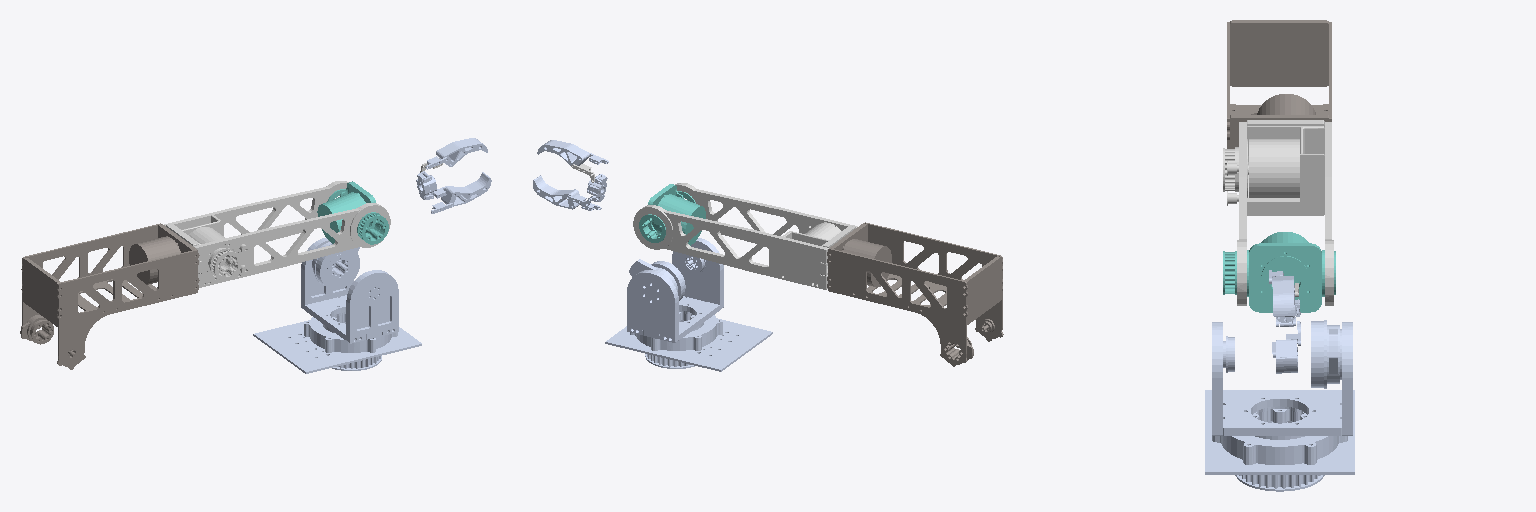
The robot description file, URDF, robot "test_robot":
<?xml version="1.0" encoding="utf-8"?>
<robot name="test_robot">
  <link name="base_link">
    <inertial>
      <origin xyz="-0.00811419632857951 -1.33296151894058E-14 0.0388240036755806" rpy="0 0 0" />
      <mass value="0.364486220084729" />
      <inertia ixx="0.000533408638192617" ixy="8.97278369764983E-18" ixz="-1.11599176793764E-19" iyy="0.000678388144206065" iyz="-1.80731678139074E-18" izz="0.00119780069410084" />
    </inertial>
    <visual>
      <origin xyz="0 0 0" rpy="0 0 0" />
      <geometry>
        <mesh filename="package://test_robot/meshes/base_link.STL" />
      </geometry>
      <material name="arm_steel_blue">
        <color rgba="0.866666666666667 0.909803921568627 1 1" />
      </material>
    </visual>
    <collision>
      <origin xyz="0 0 0" rpy="0 0 0" />
      <geometry>
        <mesh filename="package://test_robot/meshes/collision/base_link.STL" />
      </geometry>
    </collision>
  </link>
  <link name="Link1">
    <inertial>
      <origin xyz="2.76611376026636E-07 0.00318515760859579 0.0437762383710039" rpy="0 0 0" />
      <mass value="0.621571816188786" />
      <inertia ixx="0.000503475045342031" ixy="-7.95356949163841E-10" ixz="-2.83799808003053E-09" iyy="0.000514707485907419" iyz="1.43408631953426E-06" izz="0.000593222979580128" />
    </inertial>
    <visual>
      <origin xyz="0 0 0" rpy="0 0 0" />
      <geometry>
        <mesh filename="package://test_robot/meshes/Link1.STL" />
      </geometry>
      <material name="arm_steel_blue">
        <color rgba="0.866666666666667 0.909803921568627 1 1" />
      </material>
    </visual>
    <collision>
      <origin xyz="0 0 0" rpy="0 0 0" />
      <geometry>
        <mesh filename="package://test_robot/meshes/collision/Link1.STL" />
      </geometry>
    </collision>
  </link>
  <joint name="joint1" type="revolute">
    <origin xyz="0 0 0.0305" rpy="0 0 0" />
    <parent link="base_link" />
    <child link="Link1" />
    <axis xyz="0 0 1" />
    <limit lower="-2.09" upper="2.09" effort="12" velocity="3.1416" />
    <dynamics damping="0.01" friction="0.0" />
  </joint>
  <link name="Link2">
    <inertial>
      <origin xyz="-0.199741277878979 -0.00540759219989384 -0.0246254064934724" rpy="0 0 0" />
      <mass value="1.35061913683019" />
      <inertia ixx="0.000960498489177091" ixy="-0.000486543194606146" ixz="-1.59579543128019E-06" iyy="0.0172050616052703" iyz="3.73239912729863E-09" izz="0.0179305739742521" />
    </inertial>
    <visual>
      <origin xyz="0 0 0" rpy="0 0 0" />
      <geometry>
        <mesh filename="package://test_robot/meshes/Link2.STL" />
      </geometry>
      <material name="arm_grey">
        <color rgba="0.894117647058823 0.894117647058823 0.894117647058823 1" />
      </material>
    </visual>
    <collision>
      <origin xyz="0 0 0" rpy="0 0 0" />
      <geometry>
        <mesh filename="package://test_robot/meshes/collision/Link2.STL" />
      </geometry>
    </collision>
  </link>
  <joint name="joint2" type="revolute">
    <origin xyz="0 0.027 0.0905" rpy="-1.5708 0 0" />
    <parent link="Link1" />
    <child link="Link2" />
    <axis xyz="0 0 1" />
    <limit lower="0" upper="1.89" effort="30" velocity="3.1416" />
    <dynamics damping="0.01" friction="0.0" />
  </joint>
  <link name="Link3">
    <inertial>
      <origin xyz="0.105904980655769 0.066542728256459 0.025899799770228" rpy="0 0 0" />
      <mass value="0.457103020650054" />
      <inertia ixx="0.000348241046812466" ixy="-0.000159956092458612" ixz="-2.72384252819298E-09" iyy="0.00121834819499818" iyz="-9.10034327369892E-09" izz="0.00132474916053214" />
    </inertial>
    <visual>
      <origin xyz="0 0 0" rpy="0 0 0" />
      <geometry>
        <mesh filename="package://test_robot/meshes/Link3.STL" />
      </geometry>
      <material name="arm_warm_grey">
        <color rgba="0.643137254901961 0.615686274509804 0.6 1" />
      </material>
    </visual>
    <collision>
      <origin xyz="0 0 0" rpy="0 0 0" />
      <geometry>
        <mesh filename="package://test_robot/meshes/collision/Link3.STL" />
      </geometry>
    </collision>
  </link>
  <joint name="joint3" type="revolute">
    <origin xyz="-0.459 -0.0125 0" rpy="3.1416 0 0" />
    <parent link="Link2" />
    <child link="Link3" />
    <axis xyz="0 0 1" />
    <limit lower="0" upper="3.0543" effort="30" velocity="3.1416" />
    <dynamics damping="0.01" friction="0.0" />
  </joint>
  <link name="Link4">
    <inertial>
      <origin xyz="-0.00203126113837154 0.00768648222538861 0.0837453569559625" rpy="0 0 0" />
      <mass value="0.429935395297889" />
      <inertia ixx="0.00112490417910146" ixy="1.66234255336337E-08" ixz="3.36832639994425E-06" iyy="0.00117882024397946" iyz="9.36256823332818E-08" izz="0.000198732892718145" />
    </inertial>
    <visual>
      <origin xyz="0 0 0" rpy="0 0 0" />
      <geometry>
        <mesh filename="package://test_robot/meshes/Link4.STL" />
      </geometry>
      <material name="arm_grey">
        <color rgba="0.894117647058823 0.894117647058823 0.894117647058823 1" />
      </material>
    </visual>
    <collision>
      <origin xyz="0 0 0" rpy="0 0 0" />
      <geometry>
        <mesh filename="package://test_robot/meshes/collision/Link4.STL" />
      </geometry>
    </collision>
  </link>
  <joint name="joint4" type="revolute">
    <origin xyz="0.186 0.0765 0.020825" rpy="1.5708 0 1.5708" />
    <parent link="Link3" />
    <child link="Link4" />
    <axis xyz="0 0 -1" />
    <limit lower="-2.09" upper="2.09" effort="12" velocity="3.1416" />
    <dynamics damping="0.01" friction="0.0" />
  </joint>
  <link name="Link5">
    <inertial>
      <origin xyz="-0.00153397999082677 0.0107830237483538 -0.0407731843529827" rpy="0 0 0" />
      <mass value="0.162461257063324" />
      <inertia ixx="5.50876343742117E-05" ixy="-4.38999977719251E-07" ixz="7.62267112020251E-11" iyy="5.81107100157246E-05" iyz="-5.35891825689256E-10" izz="5.92603292452636E-05" />
    </inertial>
    <visual>
      <origin xyz="0 0 0" rpy="0 0 0" />
      <geometry>
        <mesh filename="package://test_robot/meshes/Link5.STL" />
      </geometry>
      <material name="arm_teal">
        <color rgba="0.533333333333333 0.850980392156863 0.823529411764706 1" />
      </material>
    </visual>
    <collision>
      <origin xyz="0 0 0" rpy="0 0 0" />
      <geometry>
        <mesh filename="package://test_robot/meshes/collision/Link5.STL" />
      </geometry>
    </collision>
  </link>
  <joint name="joint5" type="revolute">
    <origin xyz="-0.002 0.04625 0.2803" rpy="-1.5708 0 0" />
    <parent link="Link4" />
    <child link="Link5" />
    <axis xyz="0 0 1" />
    <limit lower="-2.09" upper="2.09" effort="12" velocity="3.1416" />
    <dynamics damping="0.01" friction="0.0" />
  </joint>
  <link name="Link6">
    <inertial>
      <origin xyz="0.000357322178219259 0.00712638722532827 0.0501847245844815" rpy="0 0 0" />
      <mass value="0.245702073285666" />
      <inertia ixx="5.96908229166746E-05" ixy="1.0756643849396E-07" ixz="-2.85776397006035E-08" iyy="5.78059821269623E-05" iyz="4.18006590233553E-06" izz="8.68639477686763E-05" />
    </inertial>
    <visual>
      <origin xyz="0 0 0" rpy="0 0 0" />
      <geometry>
        <mesh filename="package://test_robot/meshes/Link6.STL" />
      </geometry>
      <material name="arm_steel_blue">
        <color rgba="0.866666666666667 0.909803921568627 1 1" />
      </material>
    </visual>
    <collision>
      <origin xyz="0 0 0" rpy="0 0 0" />
      <geometry>
        <mesh filename="package://test_robot/meshes/collision/Link6.STL" />
      </geometry>
    </collision>
  </link>
  <joint name="joint6" type="revolute">
    <origin xyz="0.0014083 -0.0099003 -0.045" rpy="1.5708 1.5708 0" />
    <parent link="Link5" />
    <child link="Link6" />
    <axis xyz="0 -0.14083 -0.99003" />
    <limit lower="-2.09" upper="2.09" effort="12" velocity="3.1416" />
    <dynamics damping="0.01" friction="0.0" />
  </joint>
  <!-- Planning reference frame at the center of the gripper. This fixed
       frame keeps the gripper's actuated joint out of the arm group. -->
  <link name="gripper_center_link" />
  <joint name="gripper_center_joint" type="fixed">
    <origin xyz="0.0130908596034552 -0.001372379325729 0.0952461475724257" rpy="0 0 1.5707963267949" />
    <parent link="Link6" />
    <child link="gripper_center_link" />
  </joint>
  <link name="Link8">
    <inertial>
      <origin xyz="0.0162159471074232 0.0122609328786536 0.00855710252703645" rpy="0 0 0" />
      <mass value="0.0218690867067144" />
      <inertia ixx="7.05738702902163E-07" ixy="-3.26253738910246E-08" ixz="1.14035487236755E-07" iyy="1.39892917276227E-06" iyz="4.64026174987268E-09" izz="1.49110127899E-06" />
    </inertial>
    <visual>
      <origin xyz="0 0 0" rpy="0 0 0" />
      <geometry>
        <mesh filename="package://test_robot/meshes/Link8.STL" />
      </geometry>
      <material name="arm_steel_blue">
        <color rgba="0.866666666666667 0.909803921568627 1 1" />
      </material>
    </visual>
    <collision>
      <origin xyz="0 0 0" rpy="0 0 0" />
      <geometry>
        <mesh filename="package://test_robot/meshes/collision/Link8.STL" />
      </geometry>
    </collision>
  </link>
  <joint name="joint8" type="prismatic">
    <origin xyz="0 0 0" rpy="0 0 0" />
    <parent link="gripper_center_link" />
    <child link="Link8" />
    <axis xyz="0.070811407502 -0.003421740214 0.997483852632" />
    <limit lower="-0.000523" upper="0.009530" effort="300" velocity="0.02" />
    <dynamics damping="0.05" friction="0.0" />
  </joint>
  <link name="Link9">
    <inertial>
      <origin xyz="0.00107163406109 -0.00519200158168 0.00802387032304" rpy="0 0 0" />
      <mass value="0.00119867092669183" />
      <inertia ixx="1.47448162955934E-08" ixy="1.91215994682163E-09" ixz="1.10228663937921E-10" iyy="8.4740978672931E-09" iyz="6.07188191035794E-11" izz="1.26201915354353E-08" />
    </inertial>
    <visual>
      <origin xyz="3.85150578816e-06 -3.06245142526e-05 -2.710793532e-08" rpy="0 0 0" />
      <geometry>
        <mesh filename="package://test_robot/meshes/Link9.STL" />
      </geometry>
      <material name="arm_steel_blue">
        <color rgba="0.866666666666667 0.909803921568627 1 1" />
      </material>
    </visual>
    <collision>
      <origin xyz="3.85150578816e-06 -3.06245142526e-05 -2.710793532e-08" rpy="0 0 0" />
      <geometry>
        <mesh filename="package://test_robot/meshes/collision/Link9.STL" />
      </geometry>
    </collision>
  </link>
  <joint name="joint9" type="revolute">
    <origin xyz="0.0288226018955 0.00571990155025 -0.000226295176334" rpy="-1.57079632679 0 0" />
    <parent link="Link8" />
    <child link="Link9" />
    <axis xyz="0.0464280010059 0.00672200015912 -0.998899021642" />
    <limit lower="-2.0" upper="2.0" effort="5" velocity="6.2832" />
    <dynamics damping="0.05" friction="0.0" />
    <mimic joint="joint8" multiplier="-17.5101" offset="0" />
  </joint>
  <link name="Link10">
    <inertial>
      <origin xyz="0.0151648614177 0.0100233750237 0.012378638739" rpy="0 0 0" />
      <mass value="0.00650857521556848" />
      <inertia ixx="1.75361043049391E-07" ixy="-1.24110145651294E-07" ixz="-3.66845570574193E-09" iyy="5.26082752348036E-07" iyz="2.65566550041051E-09" izz="4.86011124032275E-07" />
    </inertial>
    <visual>
      <origin xyz="0.0016010744212 0.00884443387304 0.000400192759806" rpy="0 0 0" />
      <geometry>
        <mesh filename="package://test_robot/meshes/Link10.STL" />
      </geometry>
      <material name="arm_grey">
        <color rgba="0.894117647058823 0.894117647058823 0.894117647058823 1" />
      </material>
    </visual>
    <collision>
      <origin xyz="0.0016010744212 0.00884443387304 0.000400192759806" rpy="0 0 0" />
      <geometry>
        <mesh filename="package://test_robot/meshes/collision/Link10.STL" />
      </geometry>
    </collision>
  </link>
  <joint name="joint10" type="revolute">
    <origin xyz="0.00235257221789 -0.00770817434653 -0.00395143918876" rpy="0 0 -1.57079632679" />
    <parent link="Link9" />
    <child link="Link10" />
    <axis xyz="-0.00672200015912 0.0464280010059 -0.998899021642" />
    <limit lower="-2.0" upper="2.0" effort="5" velocity="6.2832" />
    <mimic joint="joint8" multiplier="-93.8049" offset="0" />
  </joint>
  <link name="Link11">
    <inertial>
      <origin xyz="-0.0153331198877 -0.00244757603211 -0.00409843966544" rpy="0 0 0" />
      <mass value="0.00298859256397788" />
      <inertia ixx="6.08467977233307E-08" ixy="-2.20232674958075E-08" ixz="-5.52108316959312E-09" iyy="1.86656243939183E-07" iyz="1.06816120991096E-09" izz="1.47584553107692E-07" />
    </inertial>
    <visual>
      <origin xyz="-0.0295196621079 -0.00507681648875 -3.72620321654e-05" rpy="0 0 0" />
      <geometry>
        <mesh filename="package://test_robot/meshes/Link11.STL" />
      </geometry>
      <material name="arm_steel_blue">
        <color rgba="0.866666666666667 0.909803921568627 1 1" />
      </material>
    </visual>
    <collision>
      <origin xyz="-0.0295196621079 -0.00507681648875 -3.72620321654e-05" rpy="0 0 0" />
      <geometry>
        <mesh filename="package://test_robot/meshes/collision/Link11.STL" />
      </geometry>
    </collision>
  </link>
  <joint name="joint11" type="revolute">
    <origin xyz="-0.00863641673293 -0.0110463805382 -0.000568371703876" rpy="3.14159265359 1.92970832235e-22 6.93876626455e-22" />
    <parent link="Link12" />
    <child link="Link11" />
    <axis xyz="-0.00672200015912 0.0464280010059 -0.998899021642" />
    <limit lower="-2.0" upper="2.0" effort="5" velocity="6.2832" />
    <mimic joint="joint8" multiplier="-112.4295" offset="0" />
  </joint>
  <link name="Link12">
    <inertial>
      <origin xyz="0.0204453897351 -0.0122315518909 0.011576940215" rpy="0 0 0" />
      <mass value="0.0334431010859235" />
      <inertia ixx="2.4161273691476E-06" ixy="1.71414388893071E-06" ixz="-3.90936731473237E-09" iyy="1.48788983617564E-05" iyz="2.62246962583086E-09" izz="1.50656753060709E-05" />
    </inertial>
    <visual>
      <origin xyz="-0.00858932745015 -0.0110494856072 -0.000571224156169" rpy="0 0 0" />
      <geometry>
        <mesh filename="package://test_robot/meshes/Link12.STL" />
      </geometry>
      <material name="arm_steel_blue">
        <color rgba="0.866666666666667 0.909803921568627 1 1" />
      </material>
    </visual>
    <collision>
      <origin xyz="-0.00858932745015 -0.0110494856072 -0.000571224156169" rpy="0 0 0" />
      <geometry>
        <mesh filename="package://test_robot/meshes/collision/Link12.STL" />
      </geometry>
    </collision>
  </link>
  <joint name="joint12" type="revolute">
    <origin xyz="0.0312777838603 0.0127795686437 0.0244047150513" rpy="-3.14159265359 -1.92970820874e-22 -6.93876626455e-22" />
    <parent link="Link10" />
    <child link="Link12" />
    <axis xyz="-0.00672200015912 -0.0464280010059 0.998899021642" />
    <limit lower="-2.0" upper="2.0" effort="5" velocity="6.2832" />
    <mimic joint="joint8" multiplier="111.3149" offset="0" />
  </joint>
  <link name="Link13">
    <inertial>
      <origin xyz="0.00539620234471 0.000350204398137 -0.00795726953458" rpy="0 0 0" />
      <mass value="0.00119867092669183" />
      <inertia ixx="7.93758011405508E-09" ixy="6.44406730988334E-11" ixz="-2.75731190473299E-11" iyy="1.52813340488315E-08" iyz="1.22787851405771E-10" izz="1.26201915354353E-08" />
    </inertial>
    <visual>
      <origin xyz="3.74731848999e-05 3.05883833182e-05 1.67348015194e-06" rpy="0 0 0" />
      <geometry>
        <mesh filename="package://test_robot/meshes/Link13.STL" />
      </geometry>
      <material name="arm_steel_blue">
        <color rgba="0.866666666666667 0.909803921568627 1 1" />
      </material>
    </visual>
    <collision>
      <origin xyz="3.74731848999e-05 3.05883833182e-05 1.67348015194e-06" rpy="0 0 0" />
      <geometry>
        <mesh filename="package://test_robot/meshes/collision/Link13.STL" />
      </geometry>
    </collision>
  </link>
  <joint name="joint13" type="revolute">
    <origin xyz="0.00235258628679 0.00448067779908 0.0035370126622" rpy="1.57079632679 -1.57079632679 0" />
    <parent link="Link8" />
    <child link="Link13" />
    <axis xyz="-0.00672200015911 -0.0464280010059 0.998899021642" />
    <limit lower="-2.0" upper="2.0" effort="5" velocity="6.2832" />
    <dynamics damping="0.05" friction="0.0" />
    <mimic joint="joint8" multiplier="22.5522" offset="0" />
  </joint>
  <link name="Link14">
    <inertial>
      <origin xyz="0.0174747654514 0.00649951049102 -0.011595116491" rpy="0 0 0" />
      <mass value="0.00650857521556847" />
      <inertia ixx="1.36161479540995E-07" ixy="-1.08896536635451E-08" ixz="-2.78241272486932E-09" iyy="5.6528231585643E-07" iyz="3.57327663963043E-09" izz="4.86011124032276E-07" />
    </inertial>
    <visual>
      <origin xyz="0.00396375009872 0.00804943987031 0.000400698198521" rpy="0 0 0" />
      <geometry>
        <mesh filename="package://test_robot/meshes/Link14.STL" />
      </geometry>
      <material name="arm_steel_blue">
        <color rgba="0.866666666666667 0.909803921568627 1 1" />
      </material>
    </visual>
    <collision>
      <origin xyz="0.00396375009872 0.00804943987031 0.000400698198521" rpy="0 0 0" />
      <geometry>
        <mesh filename="package://test_robot/meshes/collision/Link14.STL" />
      </geometry>
    </collision>
  </link>
  <joint name="joint14" type="revolute">
    <origin xyz="0.00805335498801 -0.000223739446947 0.00404117618357" rpy="0 0 0" />
    <parent link="Link13" />
    <child link="Link14" />
    <axis xyz="-0.00672200015911 -0.0464280010059 0.998899021642" />
    <limit lower="-2.0" upper="2.0" effort="5" velocity="6.2832" />
    <mimic joint="joint8" multiplier="93.8049" offset="0" />
  </joint>
  <link name="Link15">
    <inertial>
      <origin xyz="-0.0154625091897 0.00153643071563 0.00405473253259" rpy="0 0 0" />
      <mass value="0.00298859256397788" />
      <inertia ixx="5.87008684760118E-08" ixy="1.46309235292696E-08" ixz="5.20969884359278E-09" iyy="1.88774684218044E-07" iyz="1.41132746883792E-09" izz="1.47612042076148E-07" />
    </inertial>
    <visual>
      <origin xyz="-0.0297662309616 0.00334189099045 -4.50123602837e-05" rpy="0 0 0" />
      <geometry>
        <mesh filename="package://test_robot/meshes/Link15.STL" />
      </geometry>
      <material name="arm_steel_blue">
        <color rgba="0.866666666666667 0.909803921568627 1 1" />
      </material>
    </visual>
    <collision>
      <origin xyz="-0.0297662309616 0.00334189099045 -4.50123602837e-05" rpy="0 0 0" />
      <geometry>
        <mesh filename="package://test_robot/meshes/collision/Link15.STL" />
      </geometry>
    </collision>
  </link>
  <joint name="joint15" type="revolute">
    <origin xyz="-0.00521848563374 -0.0130127932773 -0.000573601896341" rpy="-3.14159265359 -1.9297078665e-22 -6.9387662685e-22" />
    <parent link="Link16" />
    <child link="Link15" />
    <axis xyz="-0.00672200015911 -0.0464280010059 0.998899021642" />
    <limit lower="-2.0" upper="2.0" effort="5" velocity="6.2832" />
    <mimic joint="joint8" multiplier="112.4295" offset="0" />
  </joint>
  <link name="Link16">
    <inertial>
      <origin xyz="0.0228819681719 -0.00492711650694 -0.0123948003179" rpy="0 0 0" />
      <mass value="0.0334431010859236" />
      <inertia ixx="2.46714036747109E-06" ixy="-1.88982810374712E-06" ixz="-4.48557668420793E-09" iyy="1.4827885363433E-05" iyz="1.42832123954631E-09" izz="1.5065675306071E-05" />
    </inertial>
    <visual>
      <origin xyz="-0.00517420418278 -0.0129884191968 -0.000568704020512" rpy="0 0 0" />
      <geometry>
        <mesh filename="package://test_robot/meshes/Link16.STL" />
      </geometry>
      <material name="arm_steel_blue">
        <color rgba="0.866666666666667 0.909803921568627 1 1" />
      </material>
    </visual>
    <collision>
      <origin xyz="-0.00517420418278 -0.0129884191968 -0.000568704020512" rpy="0 0 0" />
      <geometry>
        <mesh filename="package://test_robot/meshes/collision/Link16.STL" />
      </geometry>
    </collision>
  </link>
  <joint name="joint16" type="revolute">
    <origin xyz="0.0338803449331 0.00577135863656 -0.0235407807116" rpy="3.14159265359 1.92970798011e-22 6.93876626455e-22" />
    <parent link="Link14" />
    <child link="Link16" />
    <axis xyz="-0.00672200015911 0.0464280010059 -0.998899021642" />
    <limit lower="-2.0" upper="2.0" effort="5" velocity="6.2832" />
    <mimic joint="joint8" multiplier="-116.3571" offset="0" />
  </joint>
</robot>

--- What the picture shows (computed from the rendered views, not written in the file) ---
The picture shows the robot from 3 angles, left to right: view 1: azimuth 30°, elevation 25°; view 2: azimuth 150°, elevation 25°; view 3: azimuth 270°, elevation 25°; orthographic projection.
Model test_robot with 17 links and 16 joints (14 revolute, 1 prismatic, 1 fixed), rooted at base_link, posed every joint at zero.
Visible links, largest first — view 1: Link3, Link4, Link1, base_link, Link5, Link16, Link12; view 2: Link3, Link4, Link1, base_link, Link5, Link16, Link12; view 3: Link4, Link1, Link3, base_link, Link5, Link12, Link16.
Boxes of the visible links, x1,y1,x2,y2 form: Link3: (20, 223, 199, 369); Link4: (164, 181, 390, 287); Link1: (301, 238, 398, 370); base_link: (253, 317, 421, 373); Link5: (317, 181, 388, 244); Link16: (441, 172, 491, 205); Link12: (436, 138, 487, 166); Link3: (827, 222, 1003, 366); Link4: (633, 183, 857, 289); Link1: (627, 238, 723, 368); base_link: (605, 315, 772, 371); Link5: (639, 184, 705, 245); Link16: (533, 175, 580, 209); Link12: (537, 140, 589, 166); Link4: (1223, 120, 1333, 305); Link1: (1212, 320, 1352, 491); Link3: (1227, 20, 1331, 148); base_link: (1205, 390, 1354, 474); Link5: (1223, 232, 1335, 312); Link12: (1272, 276, 1294, 316); Link16: (1276, 339, 1297, 373).
Size in the robot's own frame: 0.6996 by 0.14 by 0.2747 metres.
14 mesh visuals loaded from 16 distinct referenced files (14 binary STL); not drawn: 2 (reference not matched to a file when rendering).
